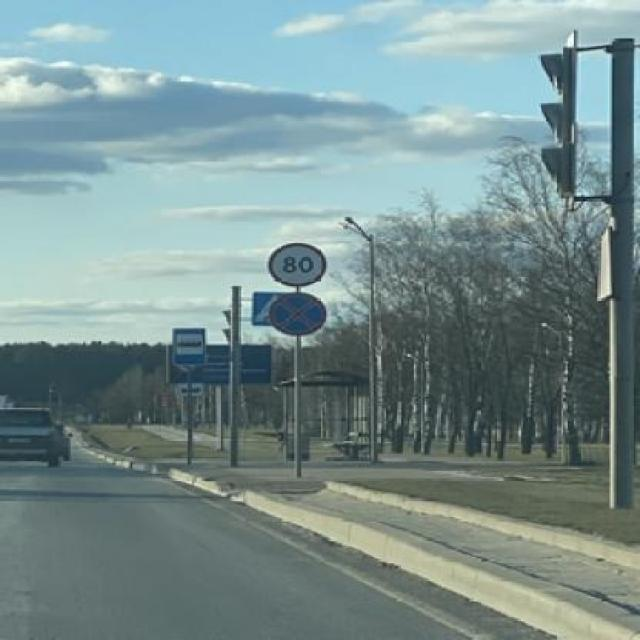forb_speed_over_80: (275, 243, 326, 286)
